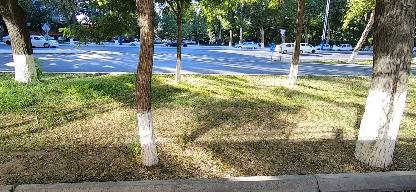car: (234, 41, 259, 50)
tree: (356, 0, 416, 170), (129, 0, 165, 168), (0, 0, 42, 87), (168, 0, 189, 87), (287, 1, 306, 87)
